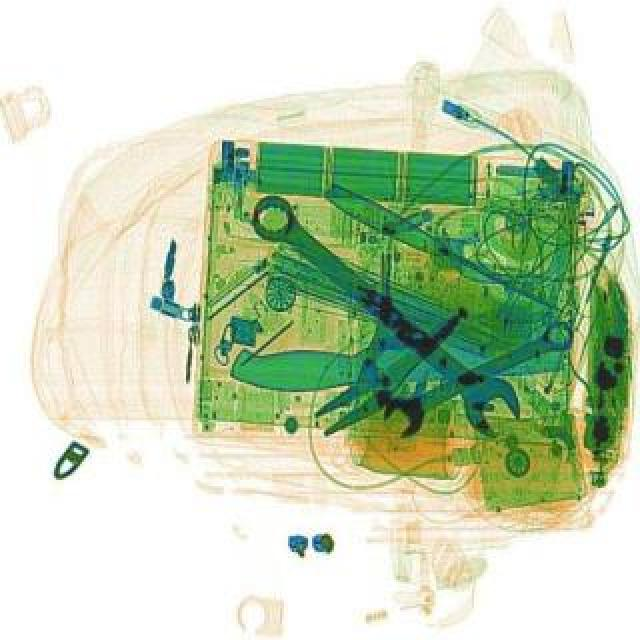knife: (322, 178, 578, 322), (230, 284, 566, 390)
scissors: (236, 180, 536, 442), (376, 306, 588, 438)
